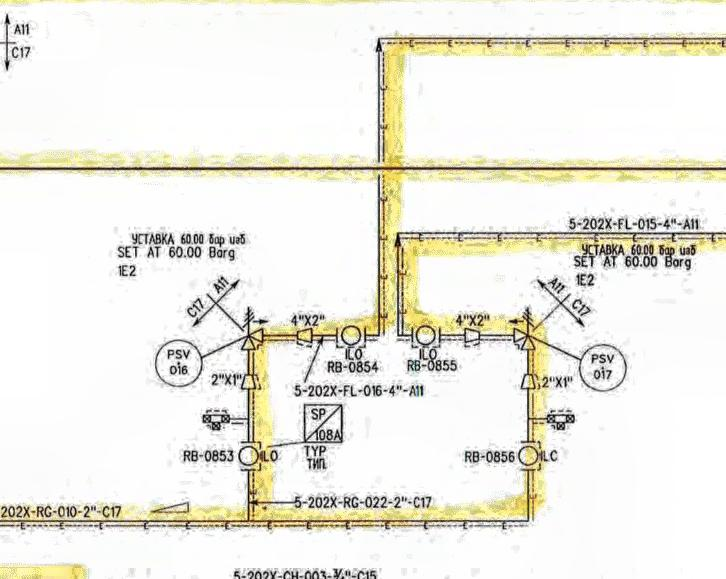2 WAY VALVE: (533, 407, 579, 436)
ANGLE RELIEF VALVE: (227, 301, 273, 357)
CONCENTRIC REDUCER: (458, 317, 489, 354), (287, 319, 322, 349), (233, 364, 260, 398)
DCS ACCESSIBLE: (297, 394, 352, 455)
DIAPHRAGM ACTUATED VALVE: (503, 302, 542, 363)
FIELD INSTRUMENT: (567, 336, 634, 398), (148, 336, 209, 391), (232, 434, 264, 474), (407, 319, 443, 349), (515, 442, 546, 475), (338, 319, 364, 355)
